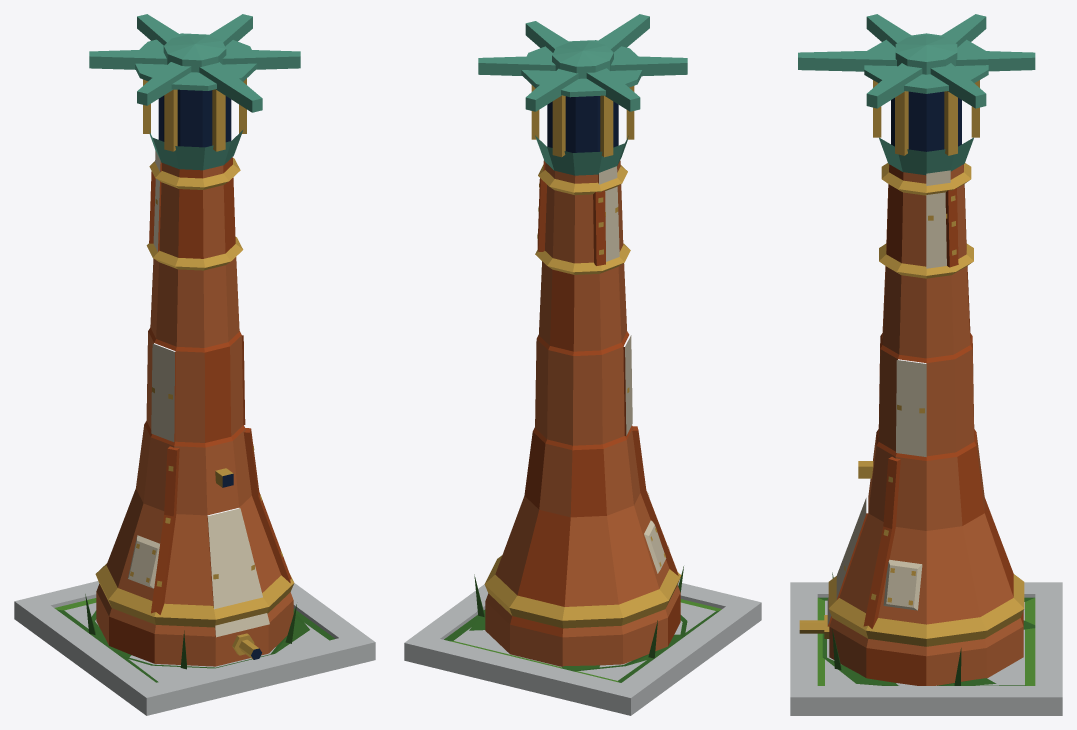
File: cowled-chimney-stack-de5055.glb
3 renders of one model, left to right at view 1: azimuth 30°, elevation 25°; view 2: azimuth 150°, elevation 25°; view 3: azimuth 270°, elevation 25°, orthographic. The views are drawn at different scales.
Parts seen in each view (by area): view 1: stack, cowl-mesh; view 2: stack, cowl-mesh; view 3: stack, cowl-mesh.
Boxes of the visible parts, x1=… form: stack: x1=14, y1=89, x2=375, y2=715; cowl-mesh: x1=89, y1=14, x2=300, y2=170; stack: x1=404, y1=96, x2=761, y2=715; cowl-mesh: x1=478, y1=14, x2=687, y2=175; stack: x1=790, y1=91, x2=1062, y2=715; cowl-mesh: x1=798, y1=14, x2=1035, y2=175.
Bounding box in the file's own units: 1.6 × 3.98 × 1.6.
